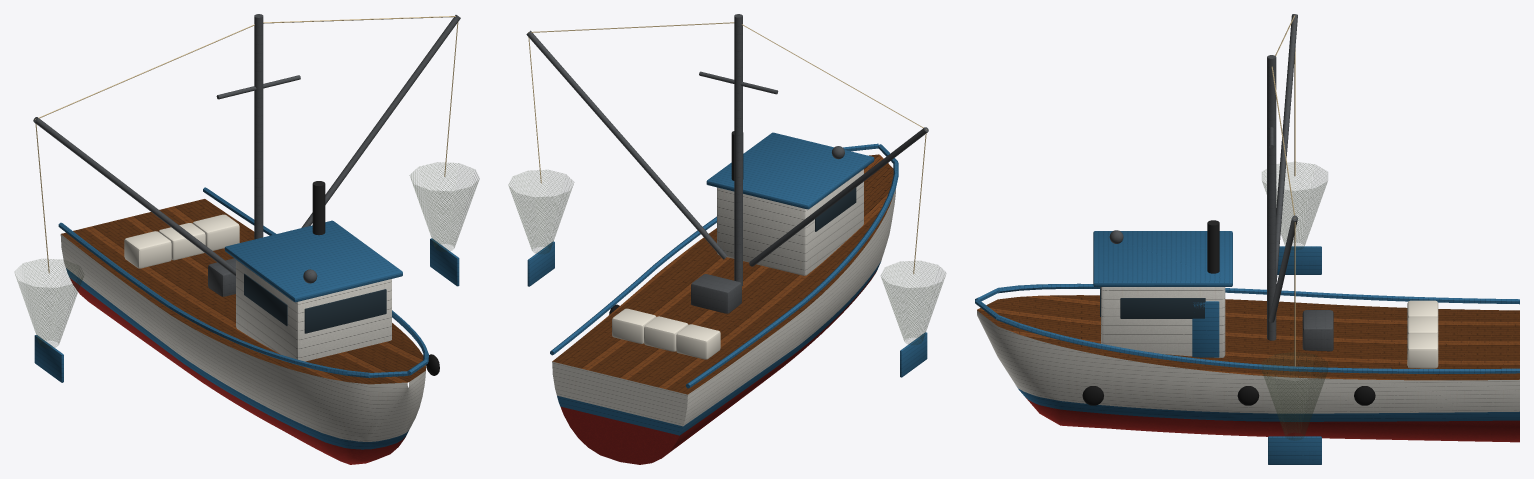
The model's file is shrimpboat-1.glb.
The picture shows the model from 3 angles, left to right: view 1: azimuth 30°, elevation 25°; view 2: azimuth 150°, elevation 25°; view 3: azimuth 270°, elevation 25°; orthographic projection. The views are drawn at different scales.
Parts seen in each view (by area): view 1: shrimpboat-1; view 2: shrimpboat-1; view 3: shrimpboat-1.
Part boxes in pixels (left/top/right/bottom): shrimpboat-1: left=15, top=14, right=479, bottom=464; shrimpboat-1: left=508, top=14, right=945, bottom=464; shrimpboat-1: left=975, top=14, right=1519, bottom=464.
Bounding box in the file's own units: 13.4 × 10.7 × 14.05.
Materials: 11 (6 with a texture image).
